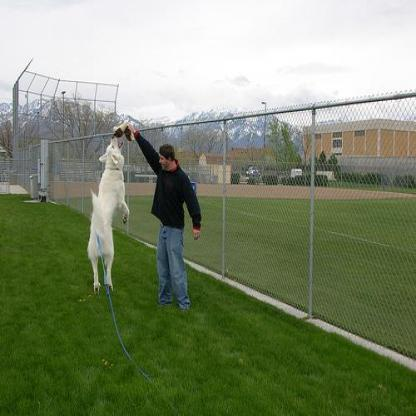Great_Pyrenees: (85, 131, 130, 294)
